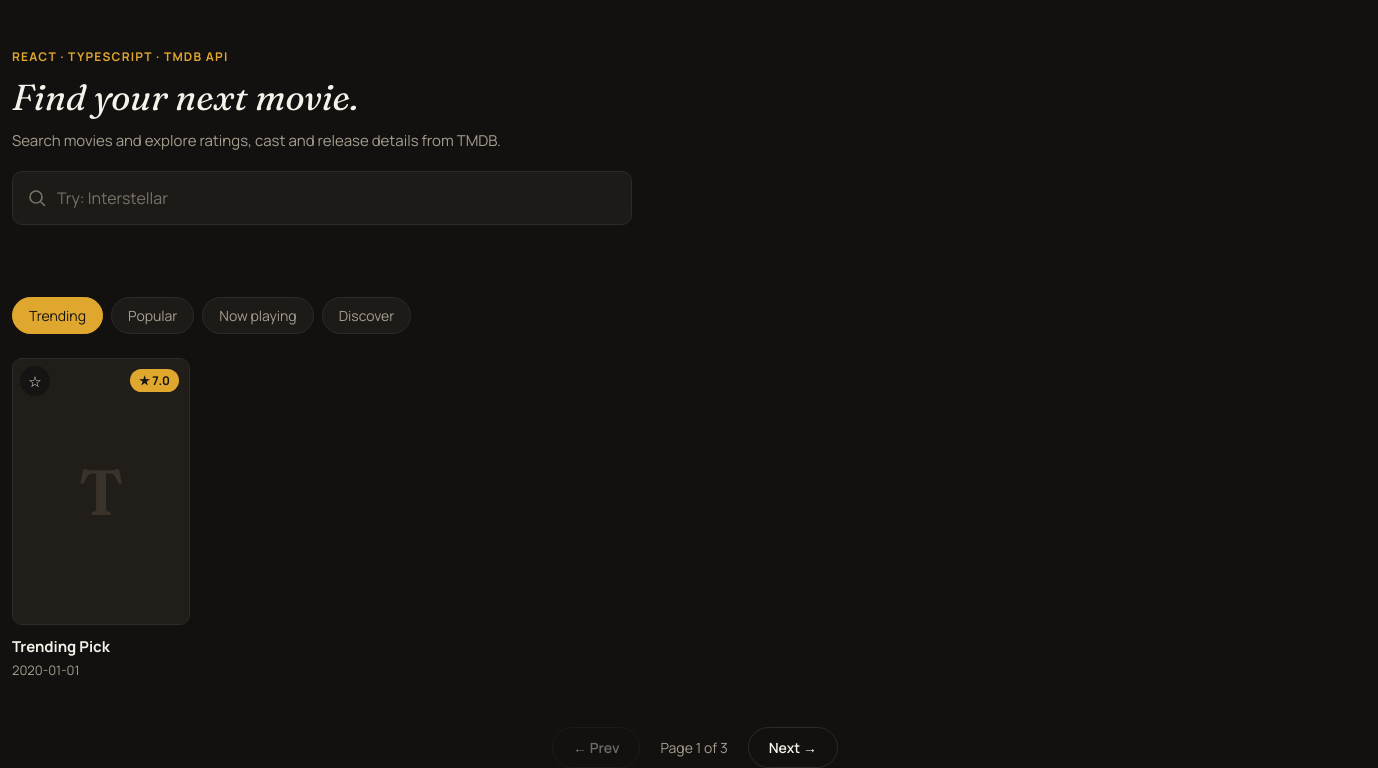
Scenario: Home browse mode › shows a skeleton, not an empty message, while the first keystroke is debounced
Type "b" into the field named "search movies" at (322, 198), box [12,171,632,225]
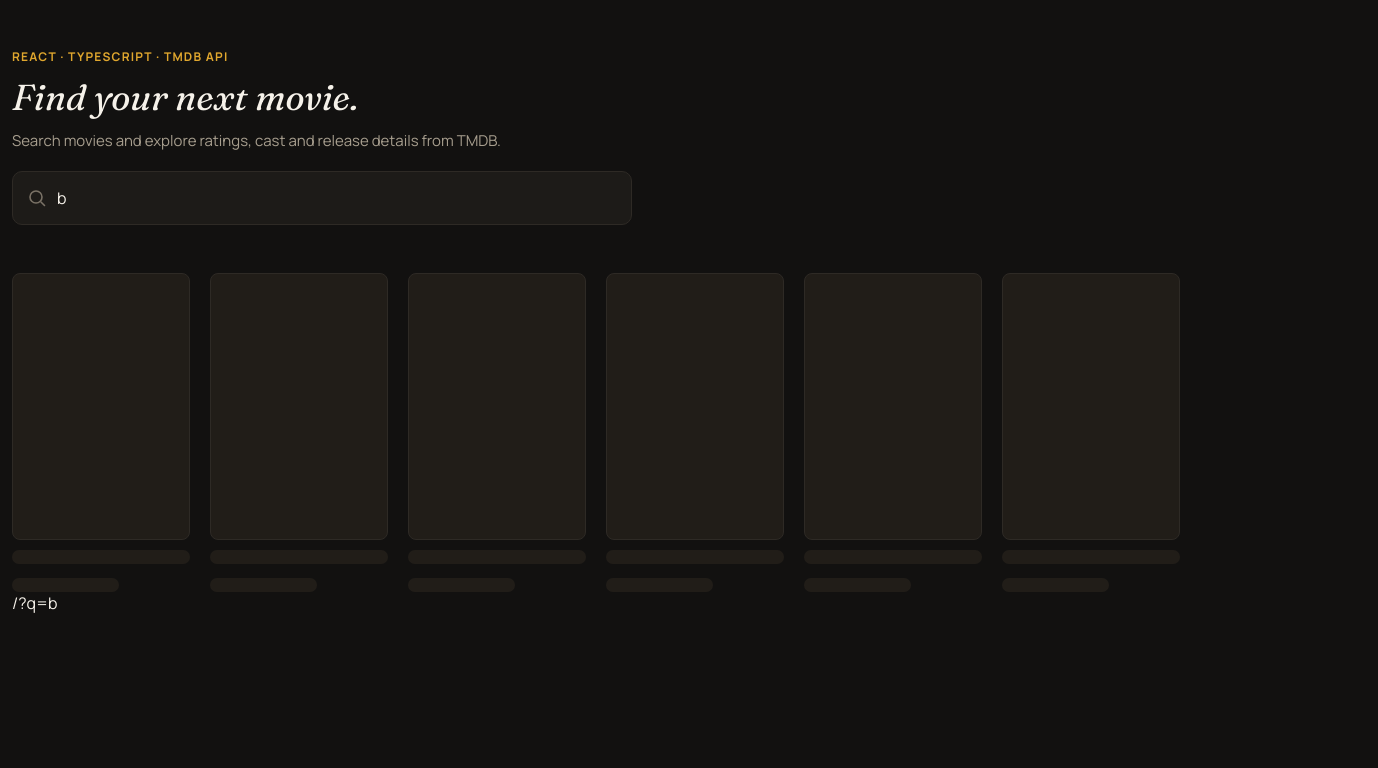
Check: the message named "loading movies" is shown, box [12,273,1377,592]
